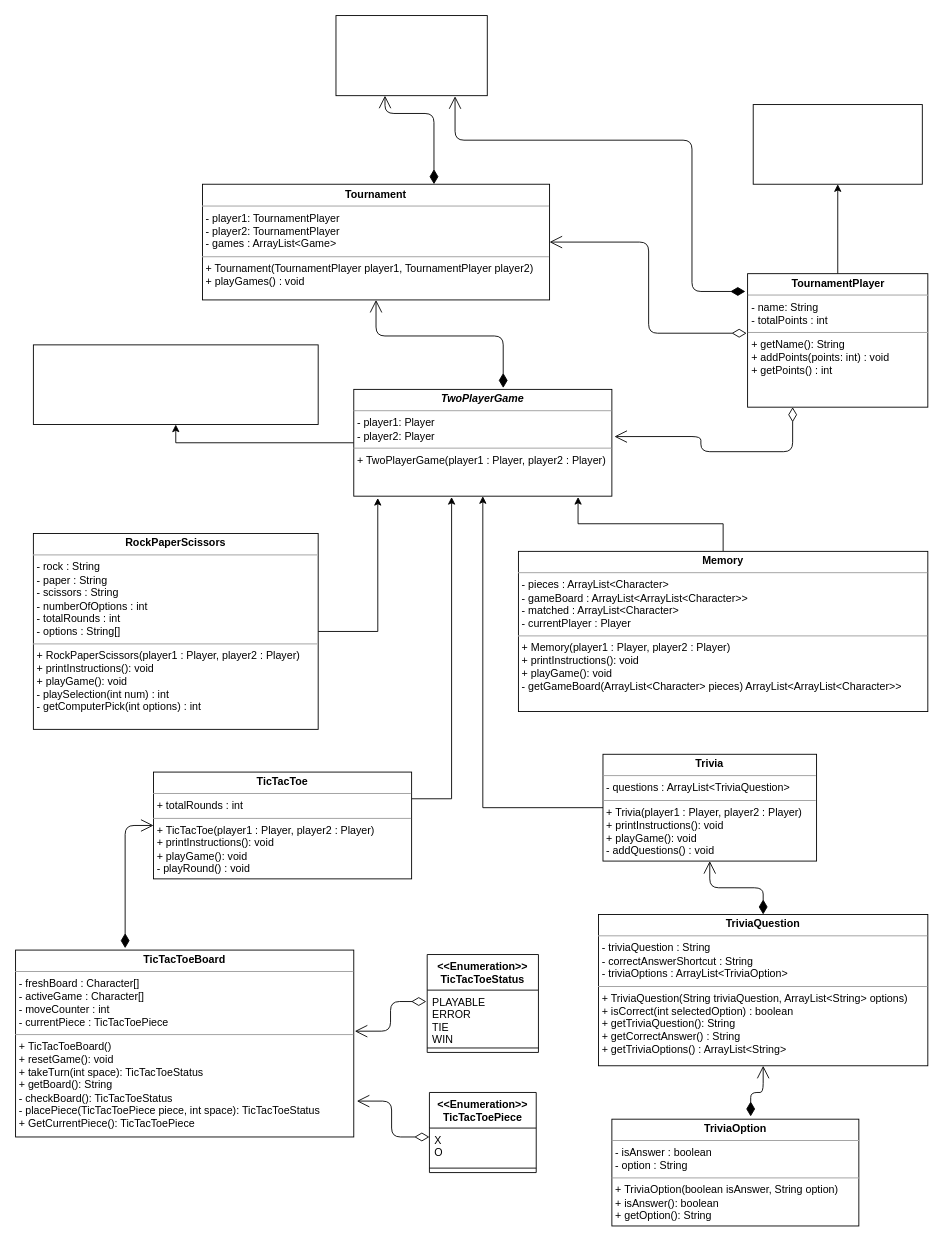
Some shapes in this 943 by 1242 pixel diagram are drawn without their labels. The shapes that lost their labels are listed below. From the top down, each one's centre as x and y in pixels, then its label:
[411,55]: Main . + Main(String[] args)
[837,144]: <<Interface>> Player + getName(): String + addPoints(points: int)
[175,384]: <<Interface>> Game + playGame( ): void + printInstructions(): void
